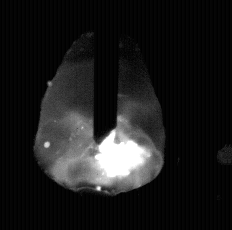arame: (94, 0, 118, 144)
poca: (33, 0, 164, 230)
